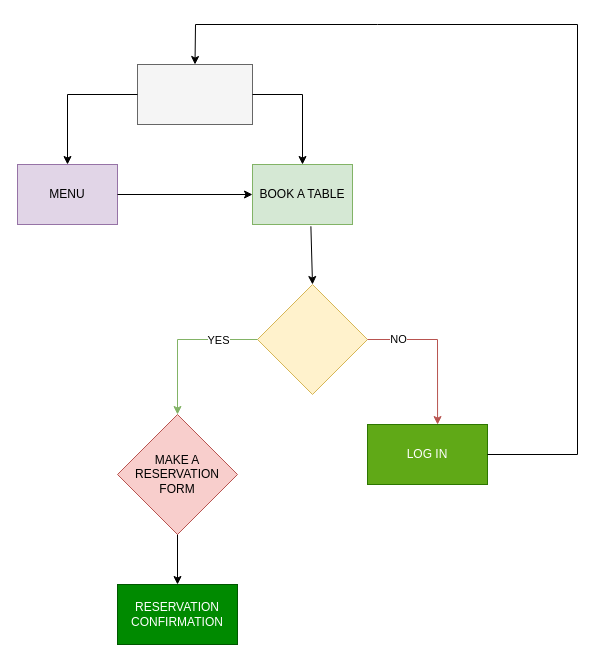
This 603x662 diagram has some shape labels left out. Each missing label, with the centre of its shape:
"HOME" goes at point 194,94.
"USER LOGGED IN?" goes at point 312,339.
